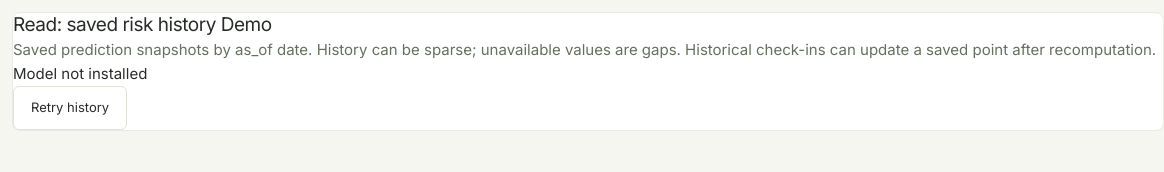
Test: saved risk snapshots › distinguishes a failed read from empty history and provides deliberate retry
Check: the message "Model not installed Retry history" is shown, box left=13, top=64, right=147, bottom=130
Check: the text "No recorded predictions yet" is not shown
Step 1. Click the button "Retry history" → {"x": 70, "y": 108}, box left=13, top=86, right=127, bottom=130
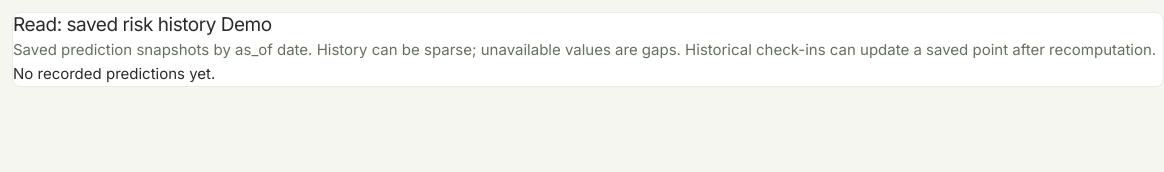
Check: the text "No recorded predictions yet" is shown, box left=13, top=64, right=215, bottom=83
